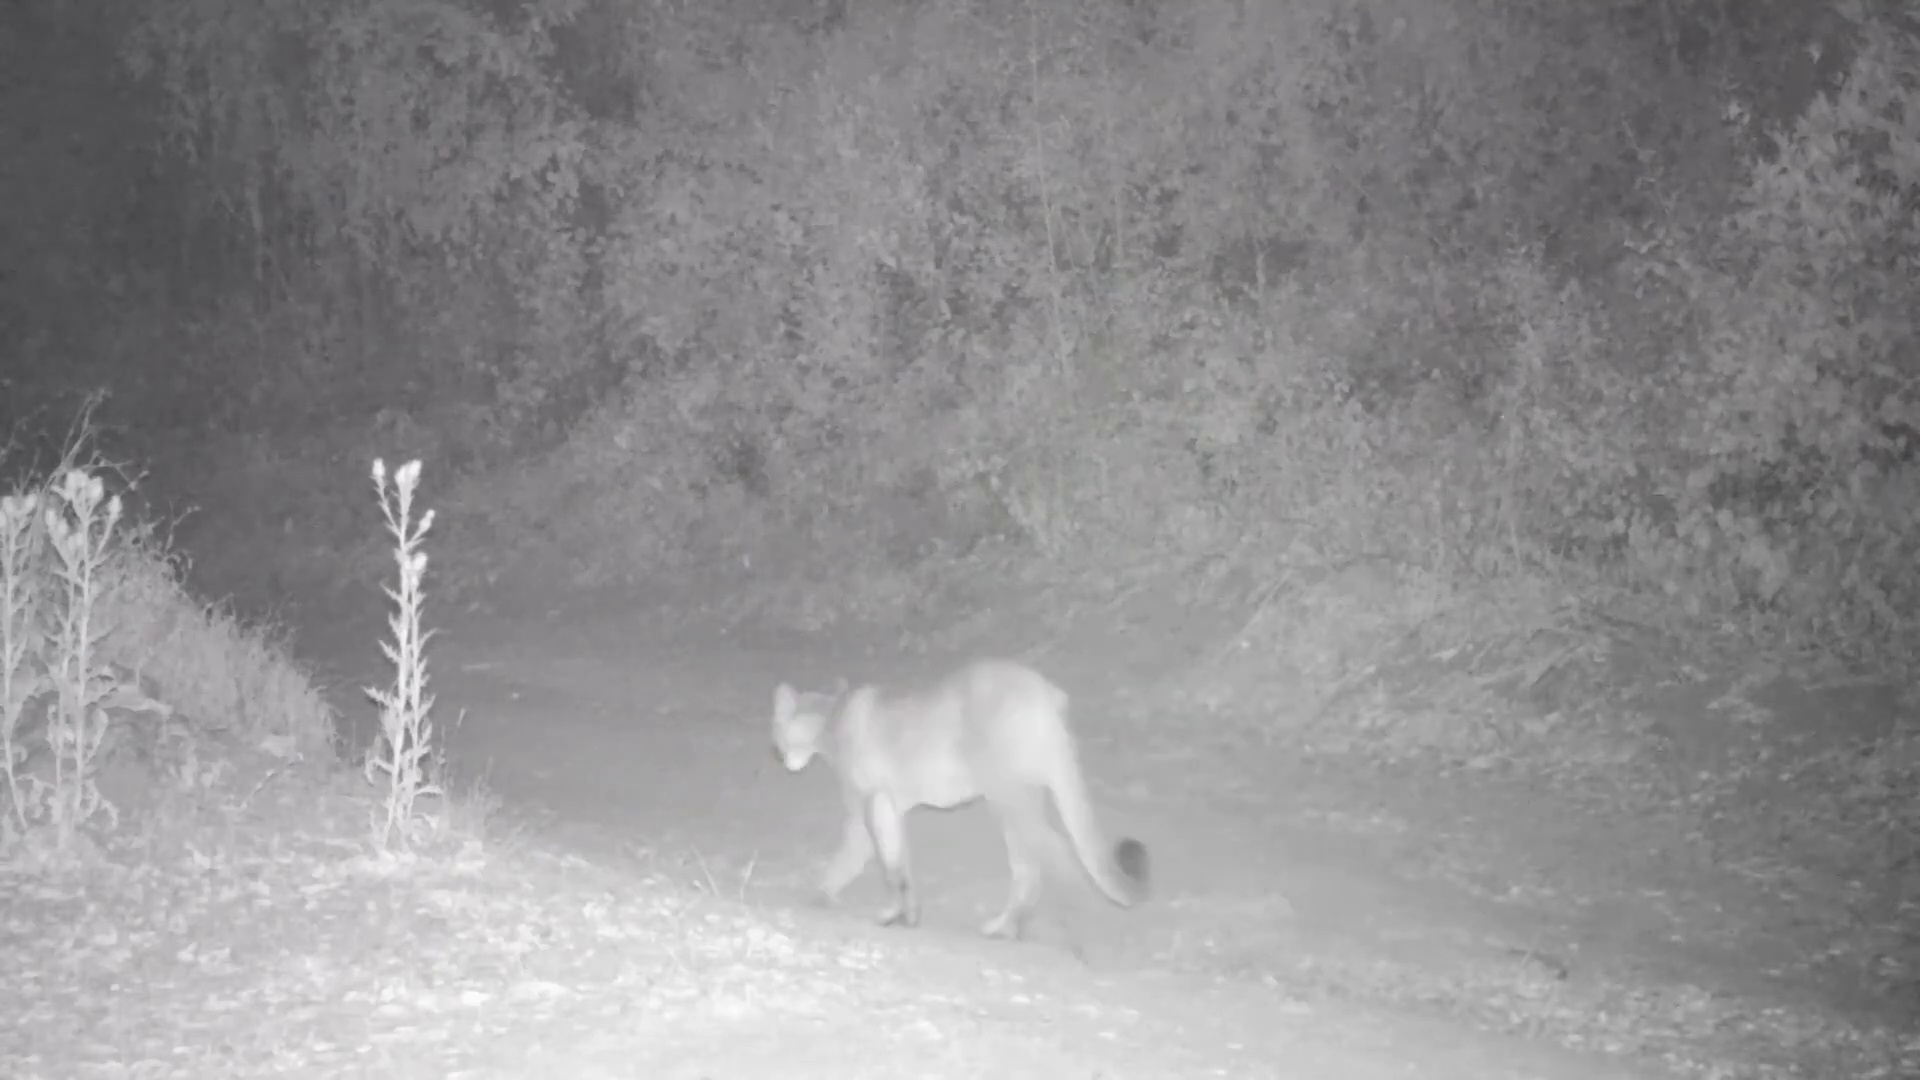Lion: (767, 654, 1154, 938)
